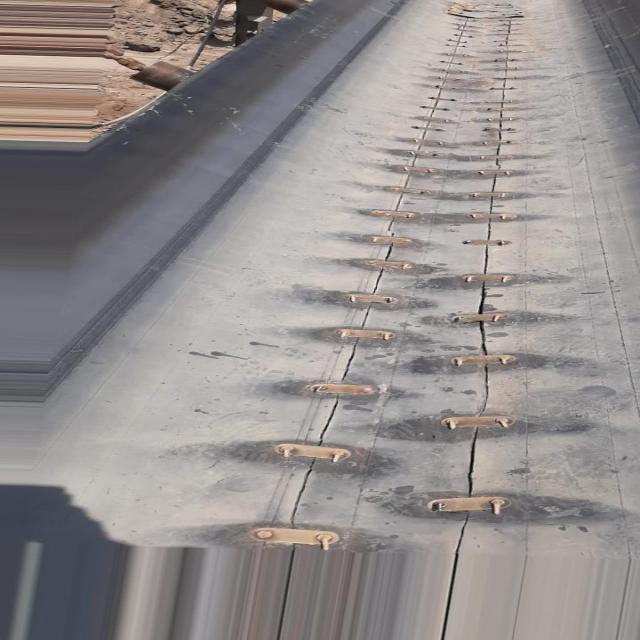Roller: (124, 57, 198, 87)
patch work: (229, 0, 565, 568)
